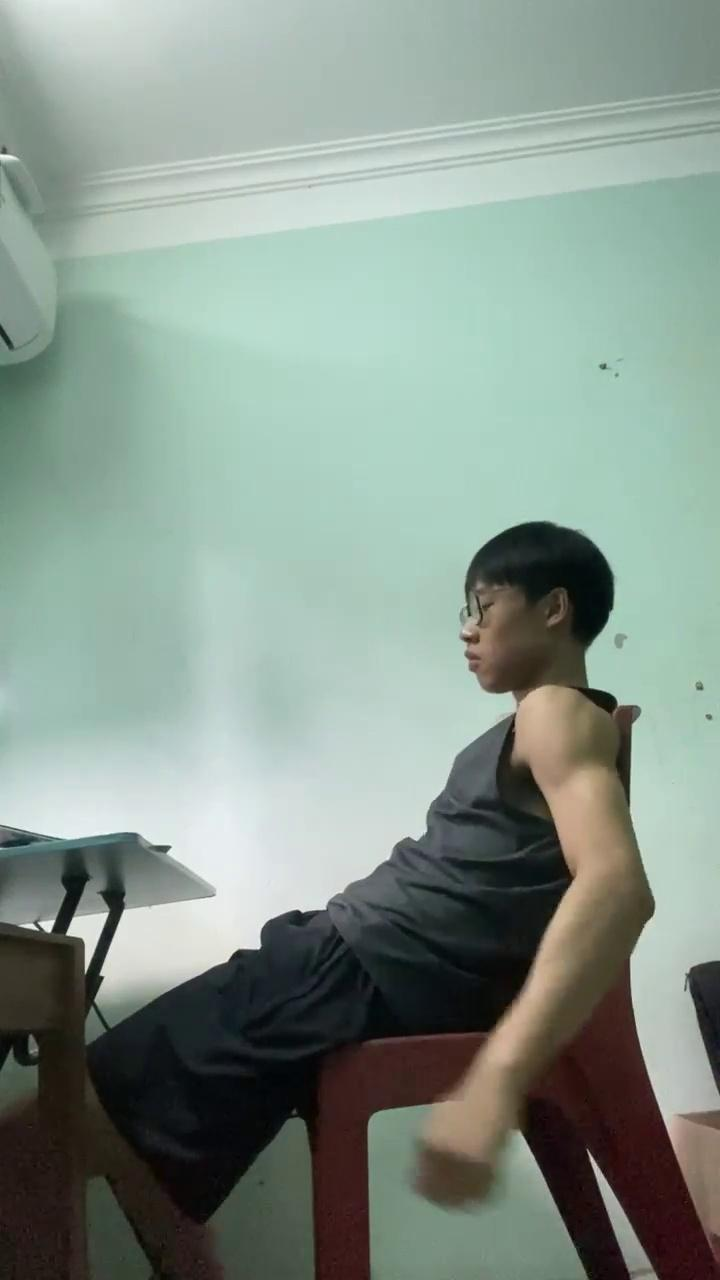BadPosture: (0, 525, 663, 1279), (261, 521, 652, 999)
